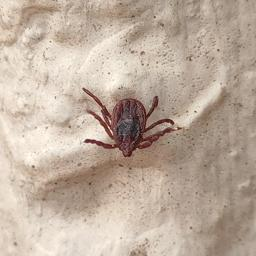Rhipicephalus sanguineus: (81, 87, 176, 156)
